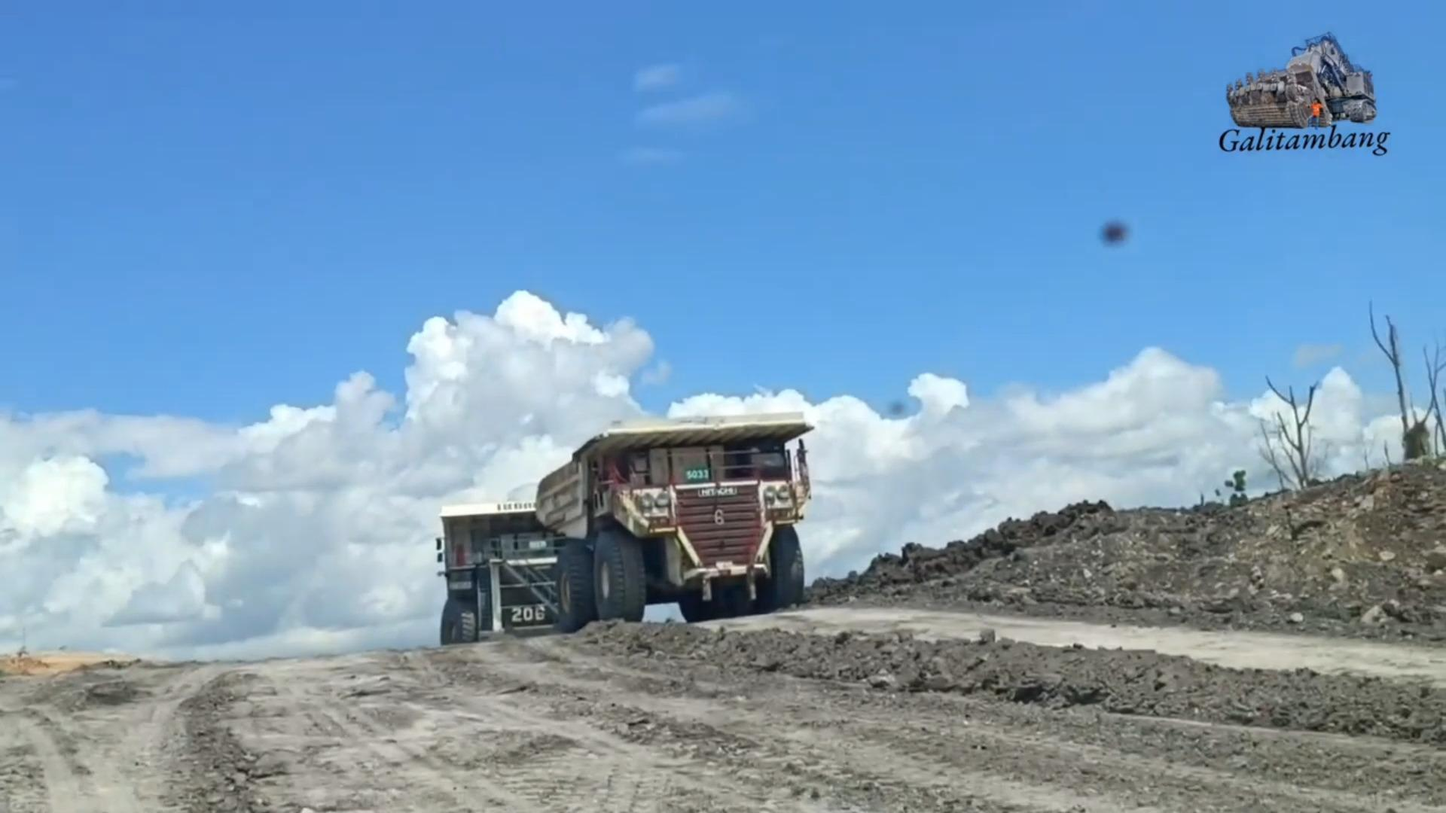HD-Truck: (522, 413, 813, 632), (435, 501, 561, 645)
